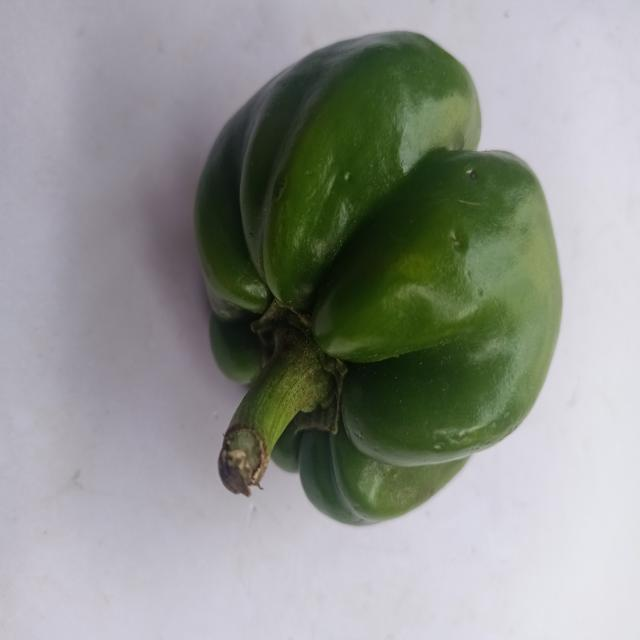Capsicum: (172, 14, 579, 554)
